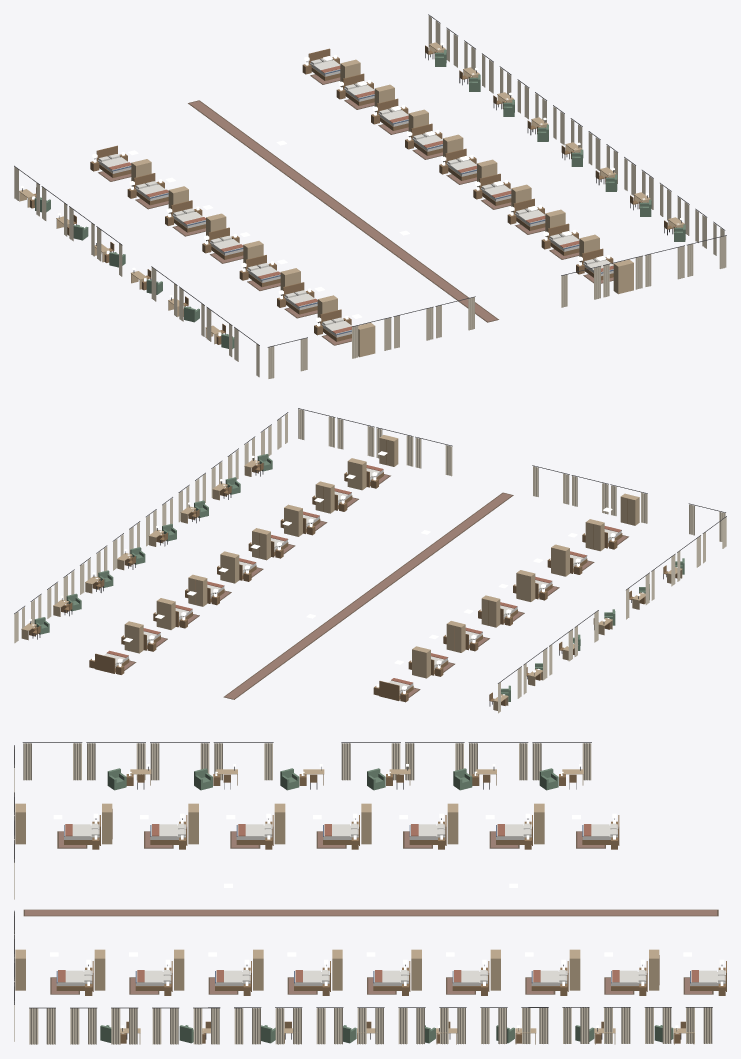
The model's file is fine-s1.glb.
The picture shows the model from 3 angles, top to bottom: view 1: azimuth 30°, elevation 25°; view 2: azimuth 150°, elevation 25°; view 3: azimuth 270°, elevation 25°; orthographic projection. The views are drawn at different scales.
Parts seen in each view (by area): view 1: soft-s1, dresser.015; view 2: soft-s1, dresser.002, dresser.005, dresser.003, dresser.006, dresser.001, dresser.009, dresser.007, dresser.010, dresser.014, dresser.008, dresser.013 (+5 smaller); view 3: soft-s1, dresser.008, dresser.014, dresser.001, dresser.003.
Boxes of the visible parts, x1=… form: soft-s1: x1=14, y1=14, x2=726, y2=378; dresser.015: x1=613, y1=259, x2=633, y2=294; soft-s1: x1=14, y1=408, x2=726, y2=713; dresser.002: x1=481, y1=595, x2=500, y2=627; dresser.005: x1=585, y1=519, x2=604, y2=551; dresser.003: x1=516, y1=570, x2=535, y2=601; dresser.006: x1=620, y1=493, x2=639, y2=525; dresser.001: x1=446, y1=621, x2=465, y2=652; dresser.009: x1=188, y1=574, x2=207, y2=606; dresser.007: x1=124, y1=621, x2=143, y2=653; dresser.010: x1=220, y1=551, x2=239, y2=583; dresser.014: x1=347, y1=458, x2=366, y2=490; dresser.008: x1=156, y1=598, x2=175, y2=629; dresser.013: x1=315, y1=481, x2=334, y2=513; soft-s1: x1=14, y1=742, x2=724, y2=1044; dresser.008: x1=569, y1=949, x2=580, y2=990; dresser.014: x1=94, y1=949, x2=105, y2=990; dresser.001: x1=447, y1=803, x2=458, y2=844; dresser.003: x1=274, y1=803, x2=285, y2=844.
Bounding box in the file's own units: 35.59 × 2.41 × 40.49.
